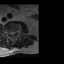CCS_normal: (11, 30, 13, 38)
LFS_normal: (15, 29, 16, 34)
LLS_normal: (13, 30, 15, 36)
RFS_stenosis: (8, 30, 10, 36)
RLS_normal: (10, 30, 11, 36)
